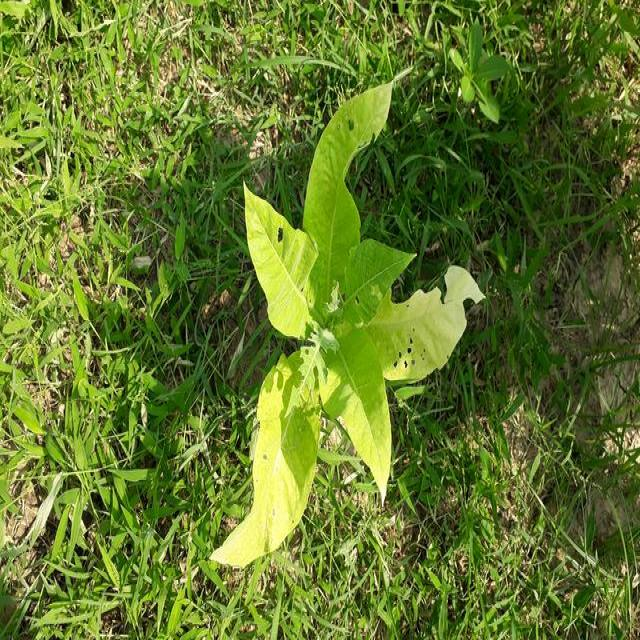crop: (212, 95, 469, 585)
